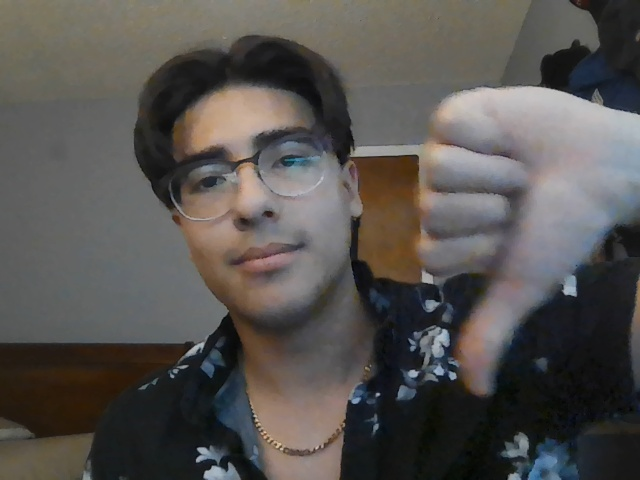ThumbsDown: (417, 85, 640, 397)
